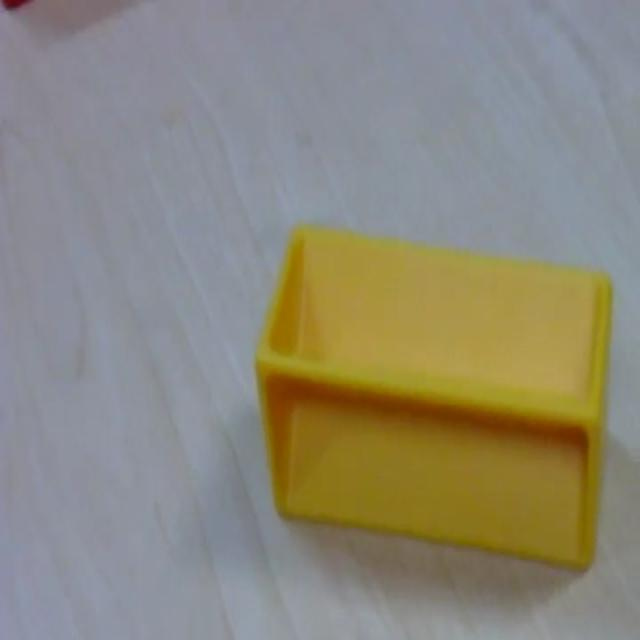yellow_block: (254, 219, 613, 572)
